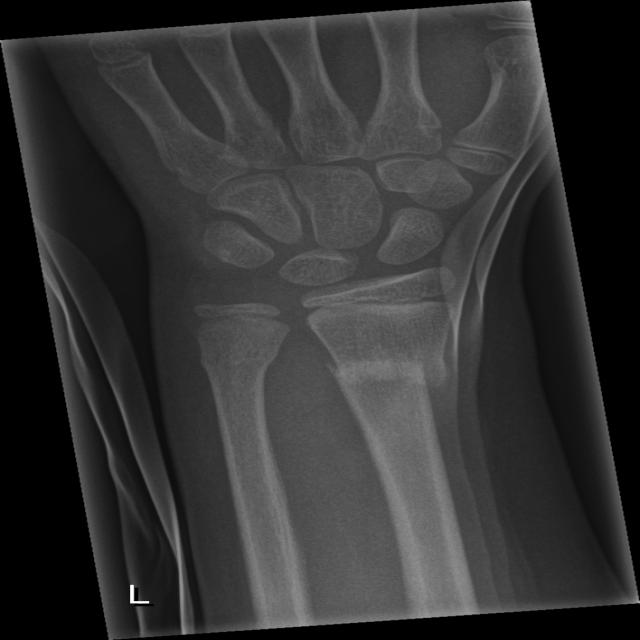radius fracture: (312, 320, 478, 478)
